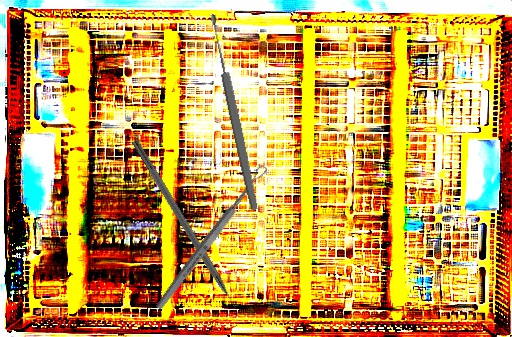Hook Surgical: (130, 138, 248, 326)
Surgical Spoon: (153, 163, 270, 312), (207, 12, 261, 212)
